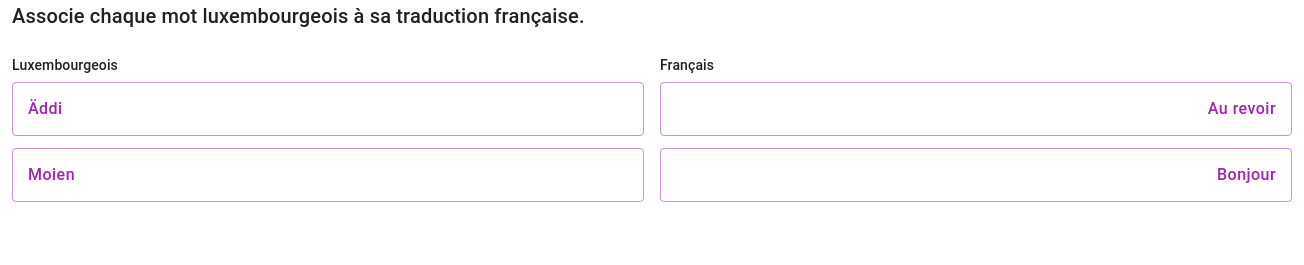
WordPairingExercise › affiche un message de réussite et désactive les mots appariés après une association correcte
Click the button "Moien" at {"x": 51, "y": 174}, box [12,148,644,202]
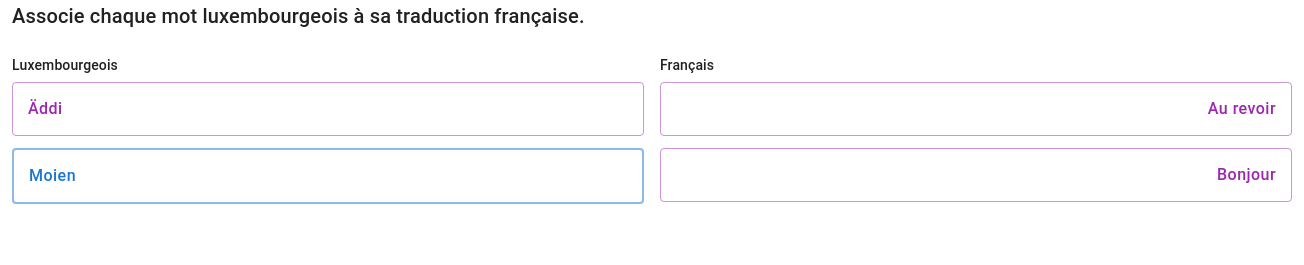
Click the button "Bonjour" at {"x": 1247, "y": 174}, box [660,148,1292,202]
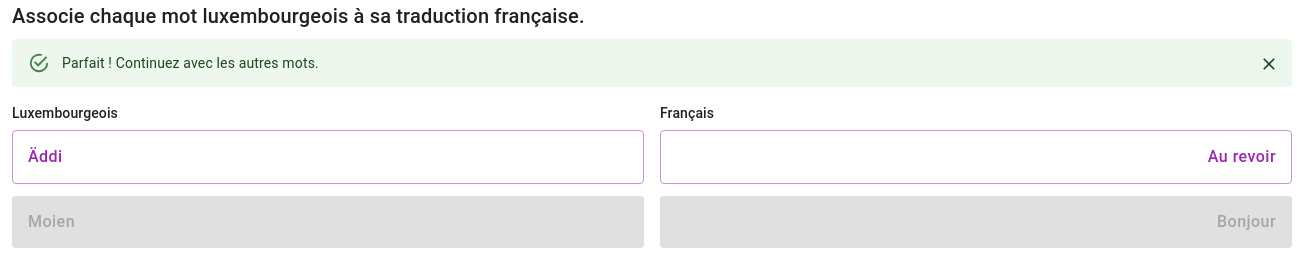
Now the button "Moien" is disabled, box [12,196,644,248]
Now the text "Parfait ! Continuez avec les autres mots." is shown, box [62,55,319,71]
